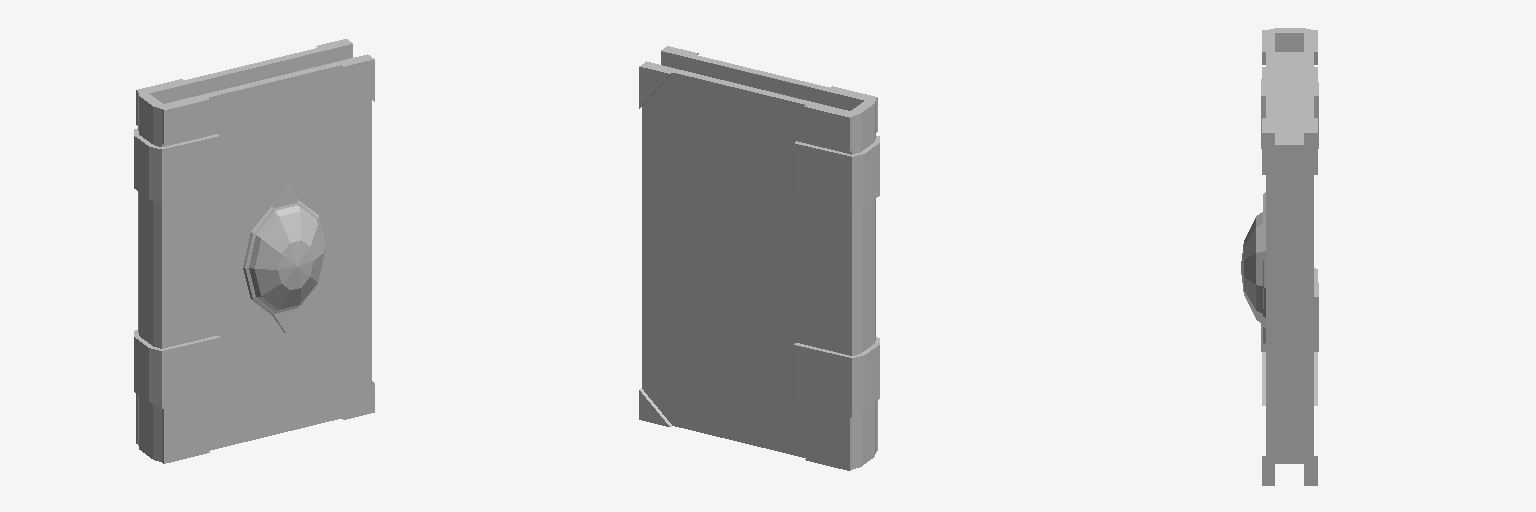
File: Kreckler_TheIdle.obj
The picture shows the model from 3 angles: view 1: azimuth 30°, elevation 25°; view 2: azimuth 150°, elevation 25°; view 3: azimuth 270°, elevation 25°; orthographic projection.
Visible parts, largest first — view 1: The_Idle; view 2: The_Idle; view 3: The_Idle.
Part boxes in pixels (x1,y1,x2,y2): The_Idle: (134,39,374,463); The_Idle: (639,46,879,470); The_Idle: (1241,28,1318,485).
Size of the model in its own units: 2.35 by 3.62 by 0.7299.